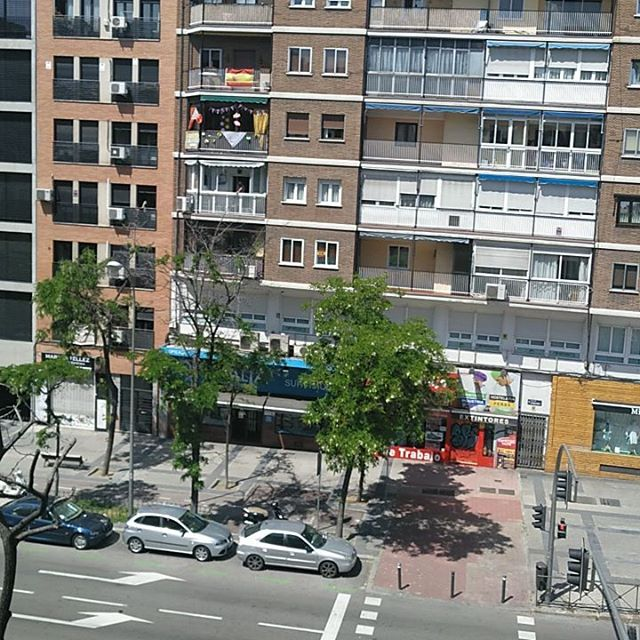building: (198, 1, 640, 318), (1, 1, 181, 341)
car: (240, 521, 367, 583), (118, 504, 245, 566), (7, 489, 134, 551)
street: (43, 559, 640, 640)
tree: (297, 280, 448, 507), (151, 311, 260, 509), (52, 246, 144, 479)
